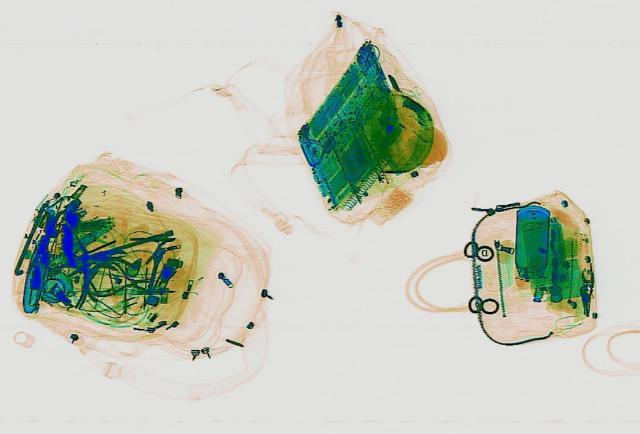Pliers: (84, 255, 156, 300)
